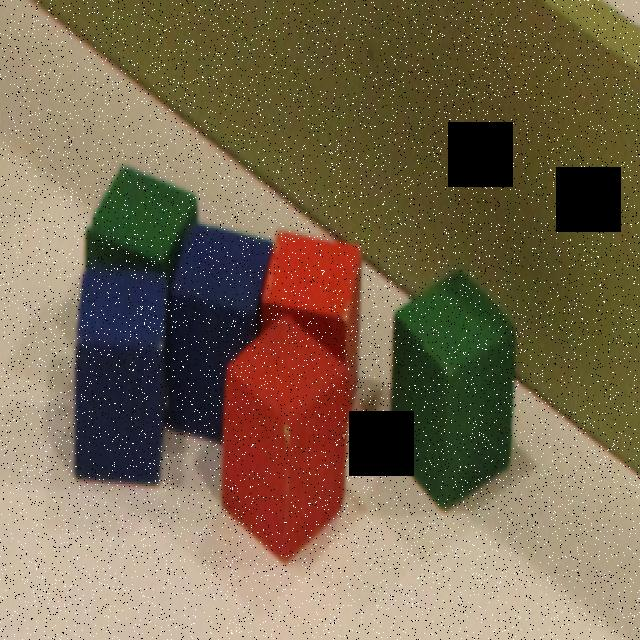bluecube: (162, 220, 273, 442), (75, 267, 165, 481)
green cube: (386, 266, 517, 513), (86, 160, 195, 268)
red cube: (217, 309, 346, 567), (261, 231, 361, 423)
